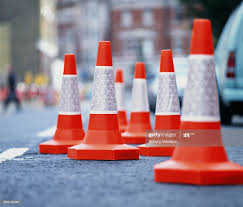cones: (155, 18, 243, 188), (70, 41, 140, 162), (139, 51, 182, 156), (40, 54, 85, 154), (120, 61, 152, 143), (113, 70, 128, 132)
